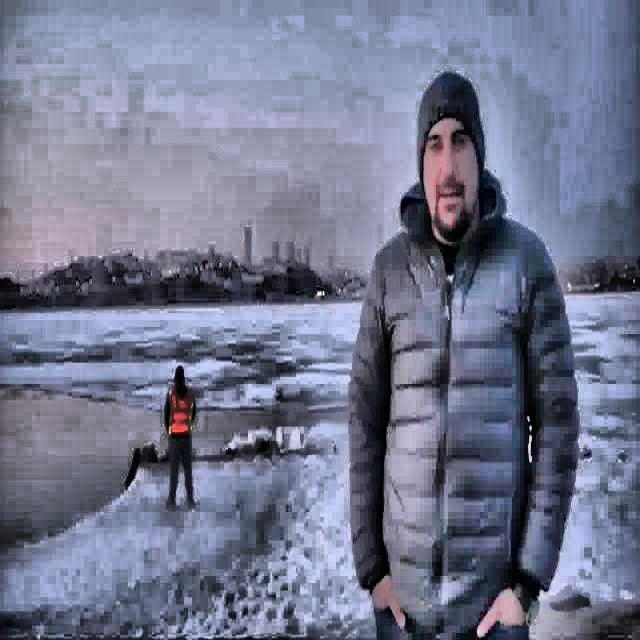safety_jacket: (166, 387, 196, 439)
